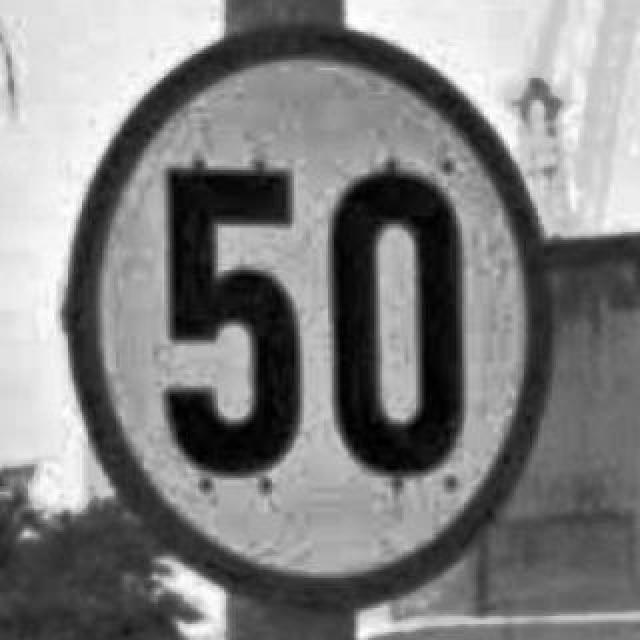50 kph: (56, 22, 552, 610)
